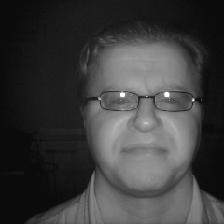happy: (66, 13, 213, 194)
